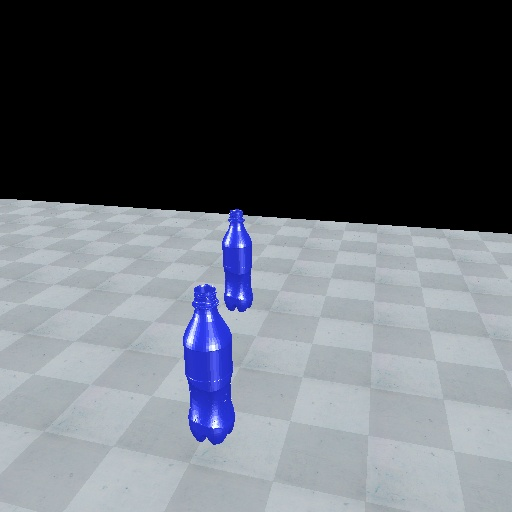bottle: (180, 283, 237, 446), (220, 207, 257, 312)
